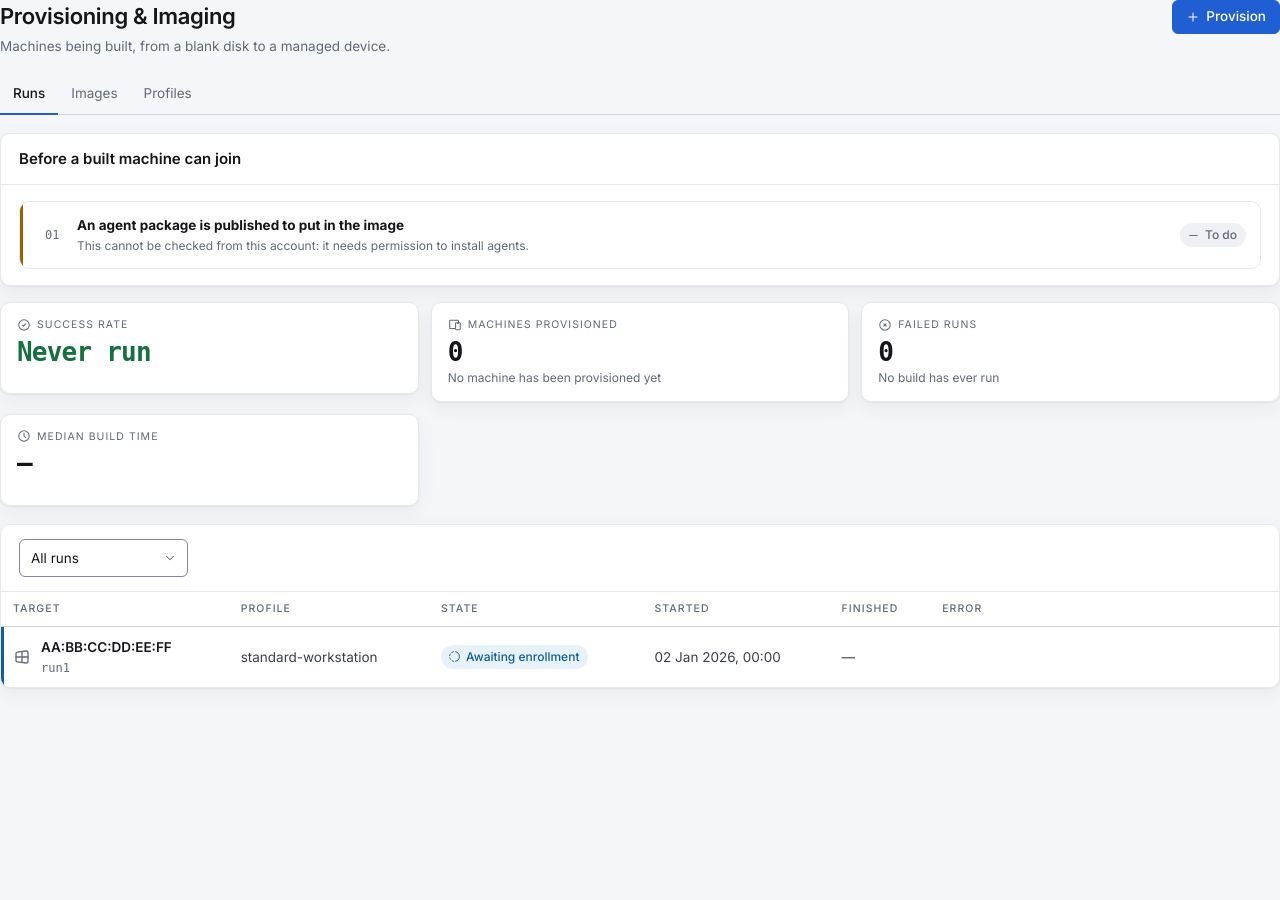
Test: the Provision a device modal › names the unpicked Profile on submit rather than leaving Start disabled
Click the button "Provision": (1226, 17) [1172,0,1279,34]
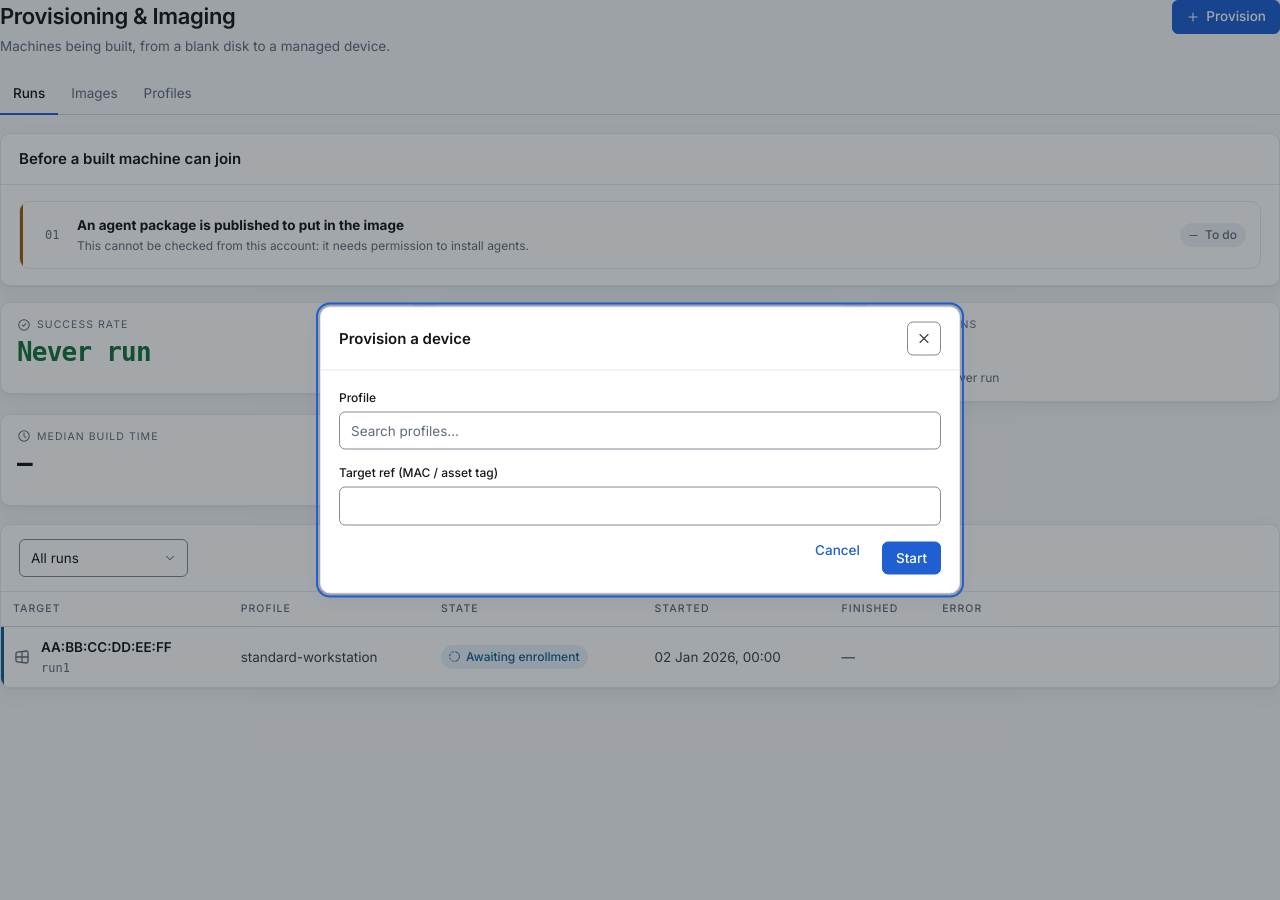
expect the button "Start" is enabled: met
Click the button "Start": (911, 558) [882,541,941,574]
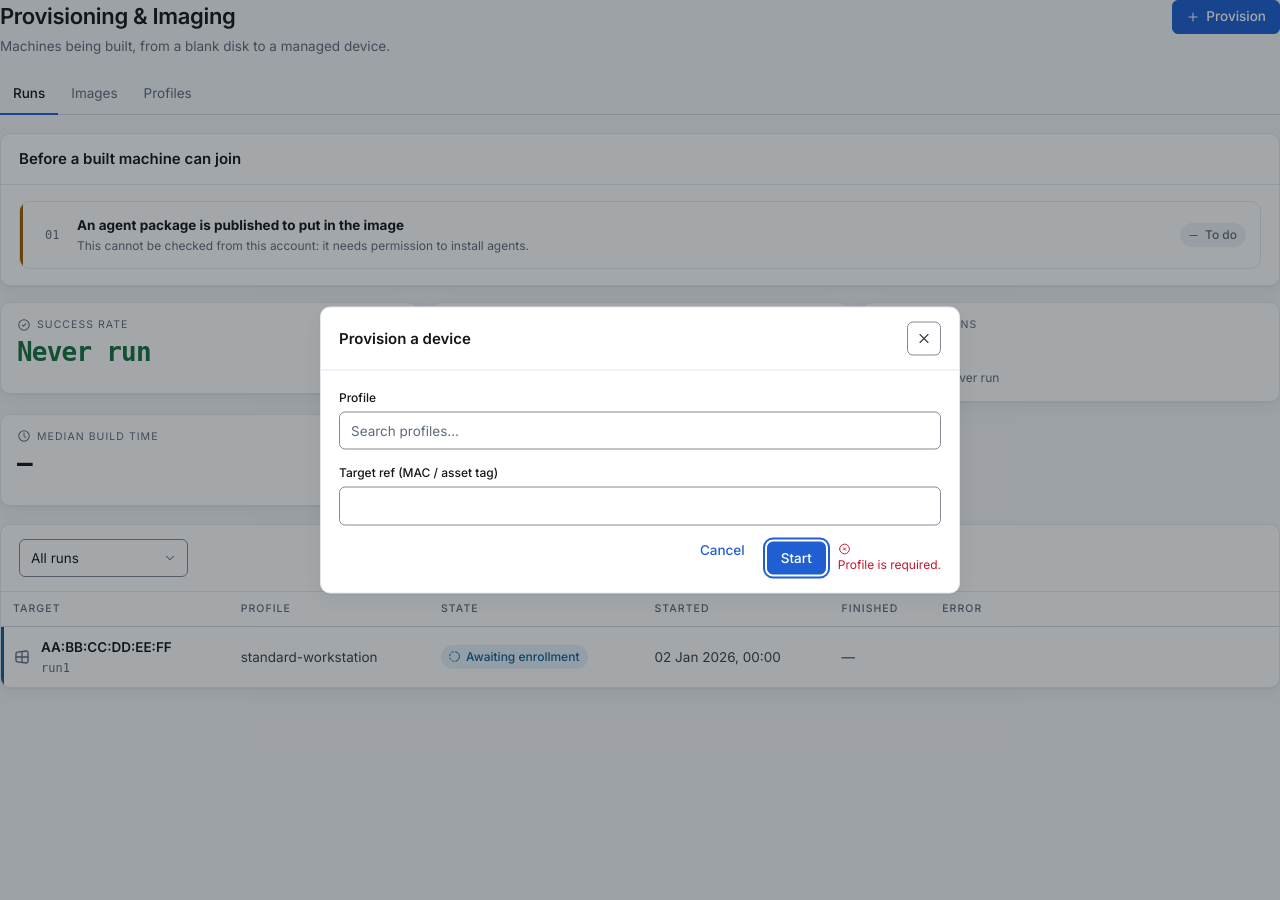
expect the message shows "Profile is required": met, box [838,556,938,571]
